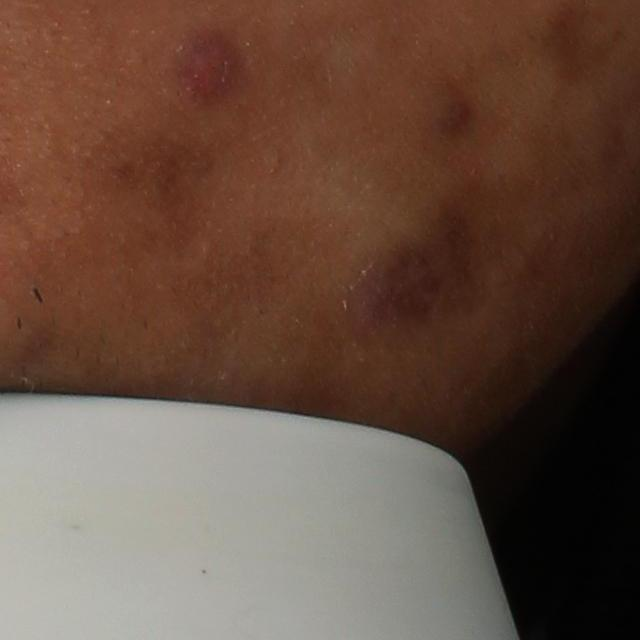papule: (170, 32, 246, 109)
